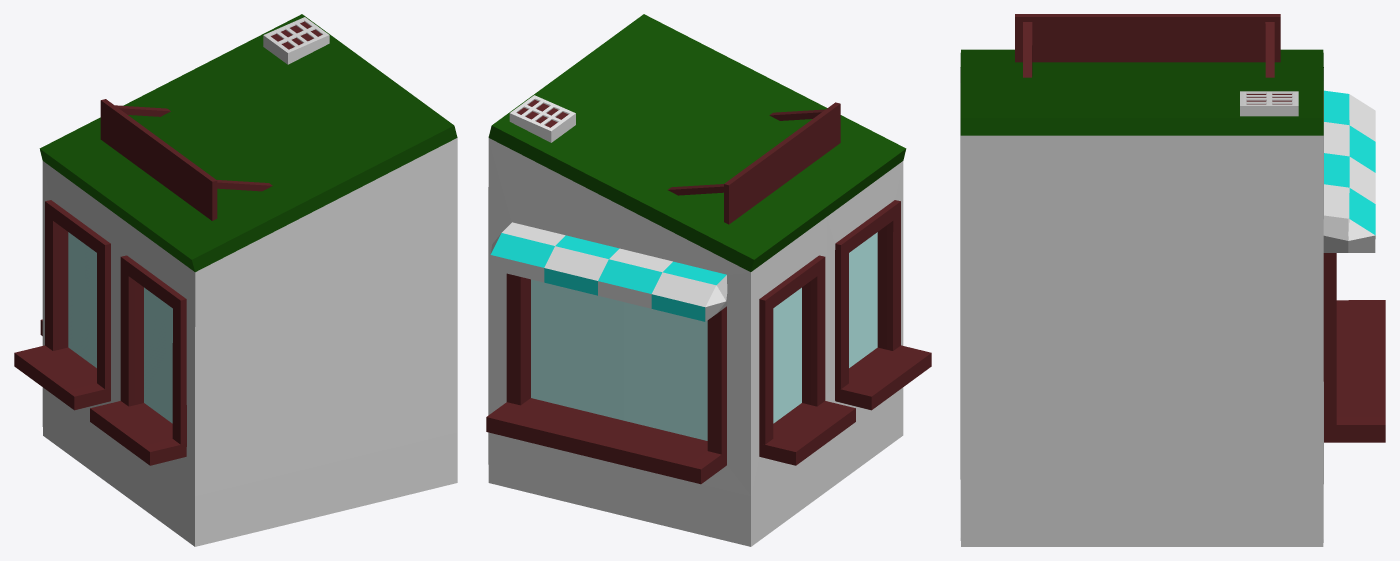
File: shop2.fbx
3 renders of one model, left to right at view 1: azimuth 30°, elevation 25°; view 2: azimuth 150°, elevation 25°; view 3: azimuth 270°, elevation 25°, orthographic. The views are drawn at different scales.
Visible parts, largest first — view 1: Shop2; view 2: Shop2; view 3: Shop2.
Part boxes in pixels (left/top/right/bottom): Shop2: left=14, top=14, right=457, bottom=546; Shop2: left=486, top=14, right=931, bottom=546; Shop2: left=960, top=14, right=1385, bottom=546.
Bounding box in the file's own units: 1210 × 1410 × 1250.
